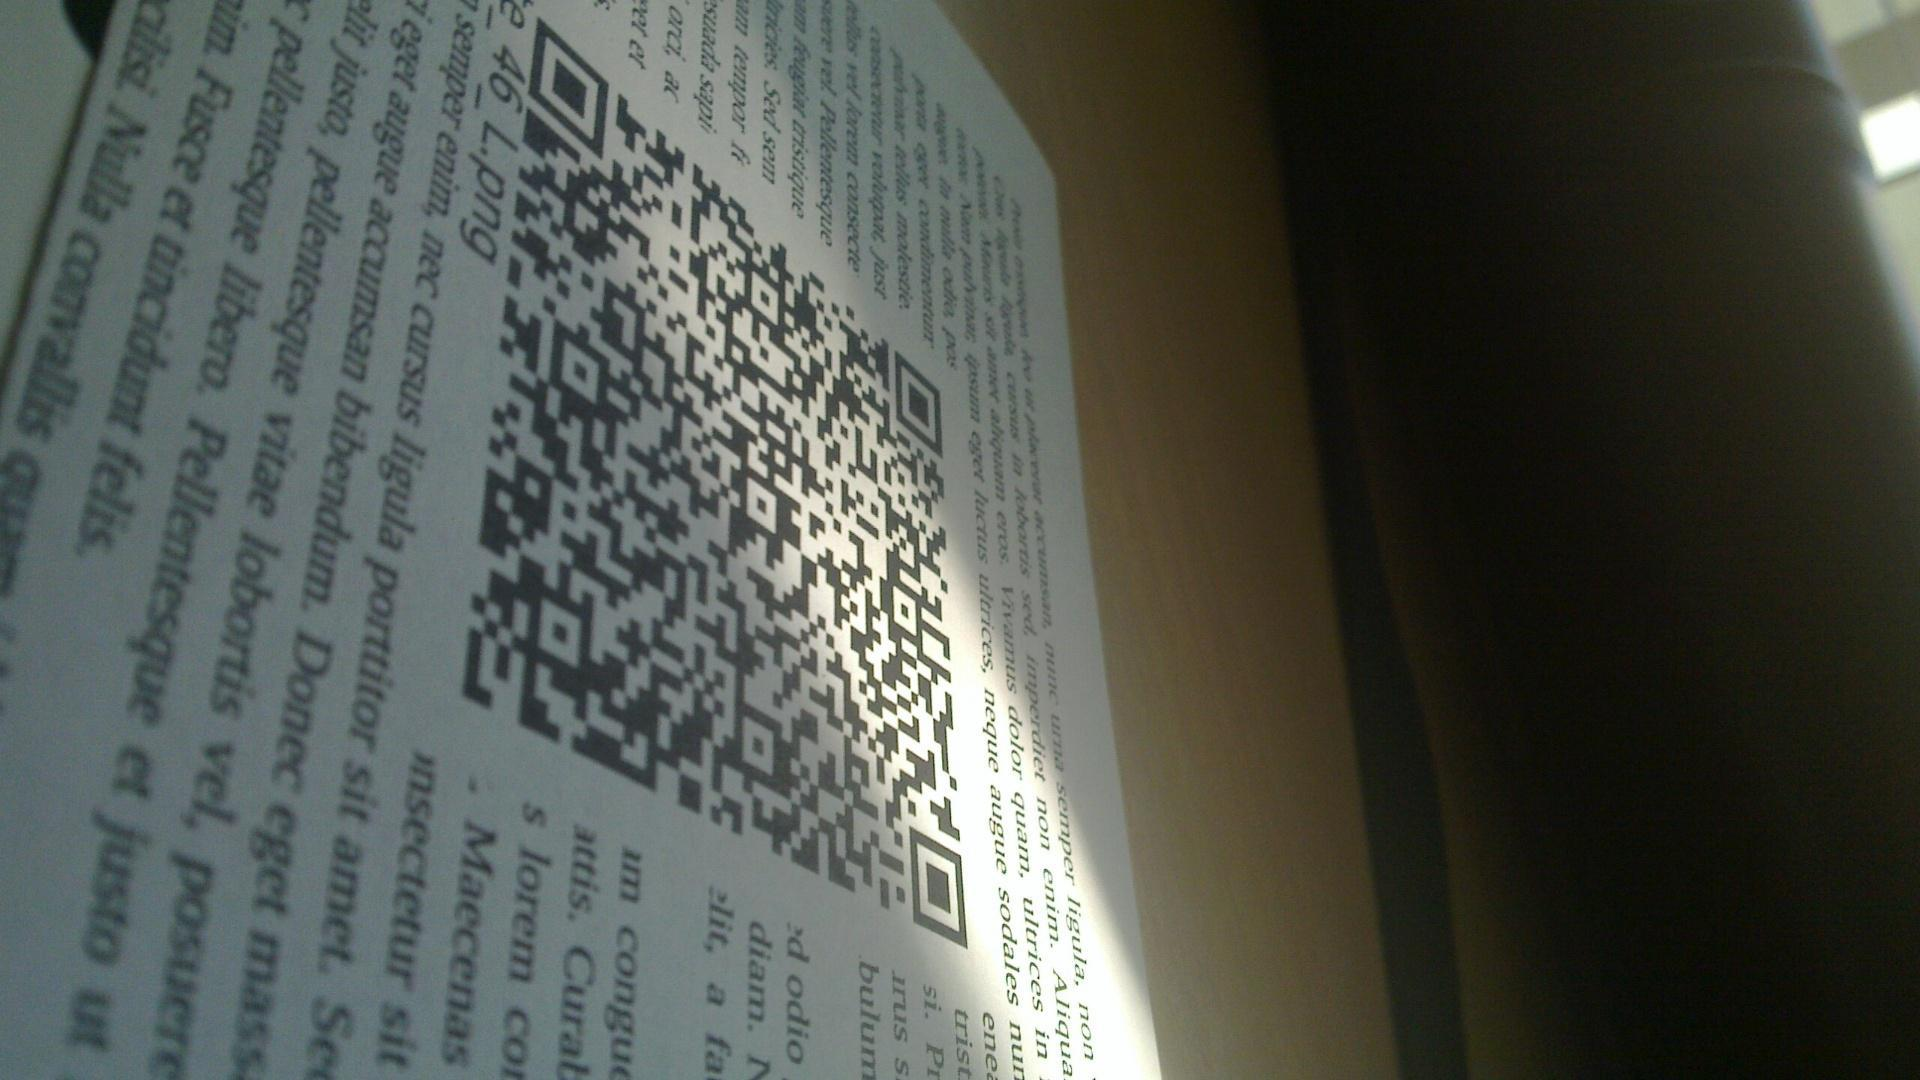Finder pattern: (521, 15, 618, 161), (906, 824, 971, 951), (887, 345, 949, 459)
